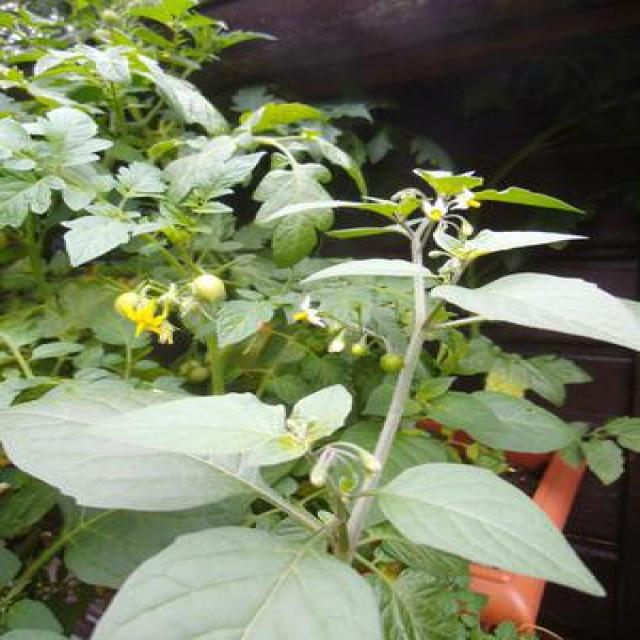Poisonous-Deadly_Nightshade: (30, 97, 544, 640)
